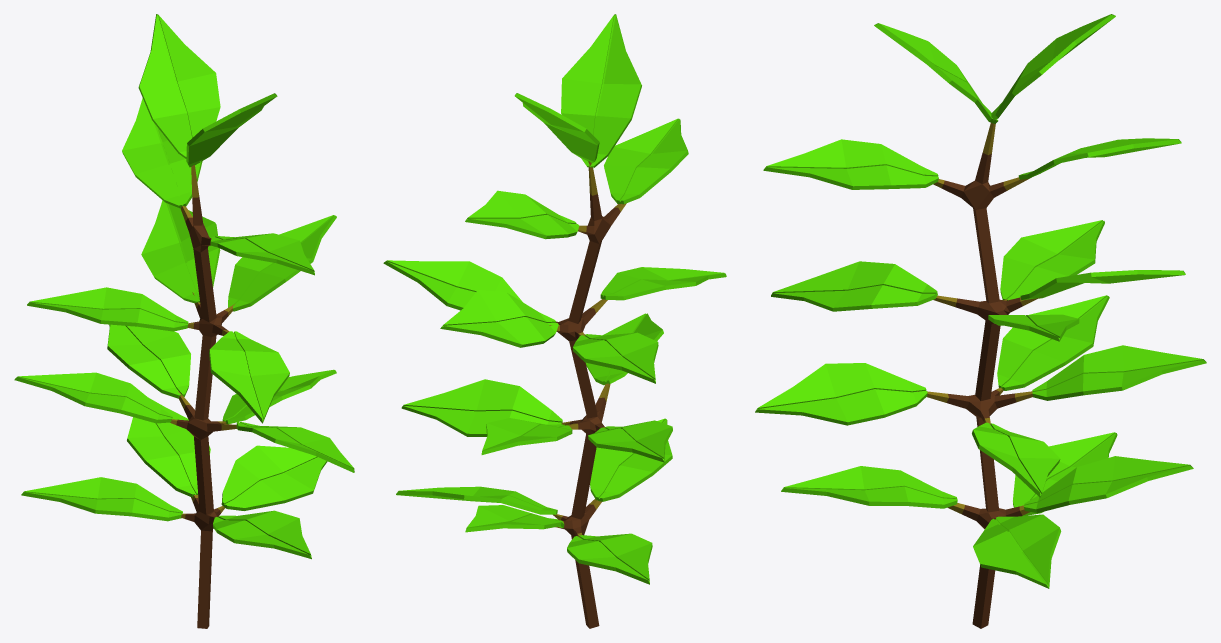
Rendered from coffee_tree_no_dirt.glb.
The picture shows the model from 3 angles, left to right: view 1: azimuth 30°, elevation 25°; view 2: azimuth 150°, elevation 25°; view 3: azimuth 270°, elevation 25°; orthographic projection. The views are drawn at different scales.
Parts seen in each view (by area): view 1: coffee_tree.001; view 2: coffee_tree.001; view 3: coffee_tree.001.
Part boxes in pixels (x1=…): coffee_tree.001: x1=14, y1=14, x2=354, y2=628; coffee_tree.001: x1=383, y1=14, x2=726, y2=628; coffee_tree.001: x1=755, y1=14, x2=1206, y2=628.
Bounding box in the file's own units: 1.96 × 3.53 × 2.34.
